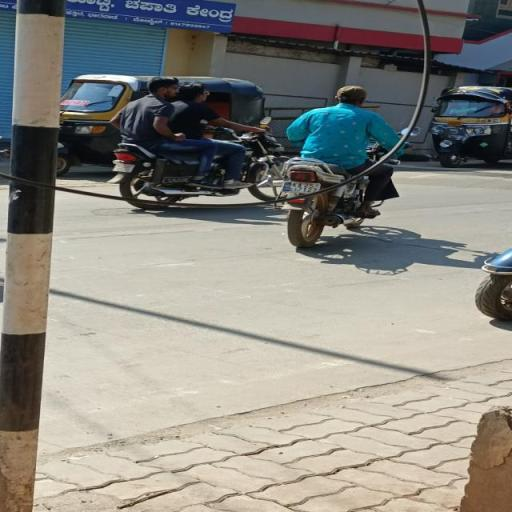bike: (269, 82, 423, 252)
numberplate: (280, 178, 326, 200)
withouthelmet: (336, 86, 367, 107)
